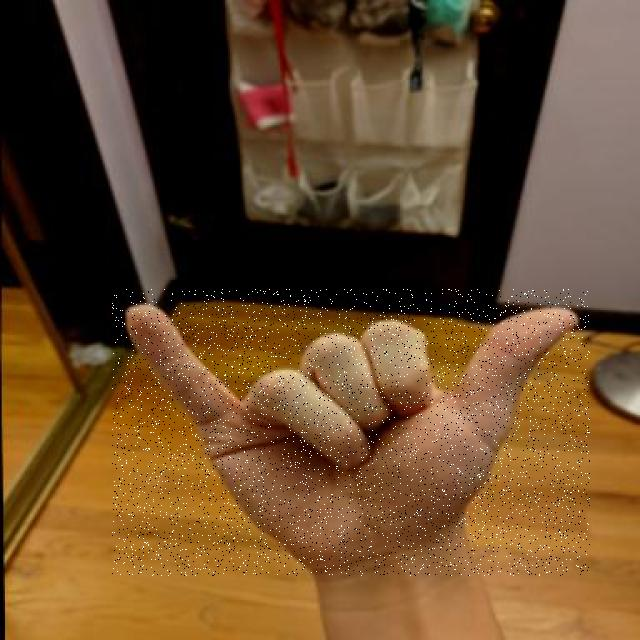Y: (112, 289, 590, 576)
